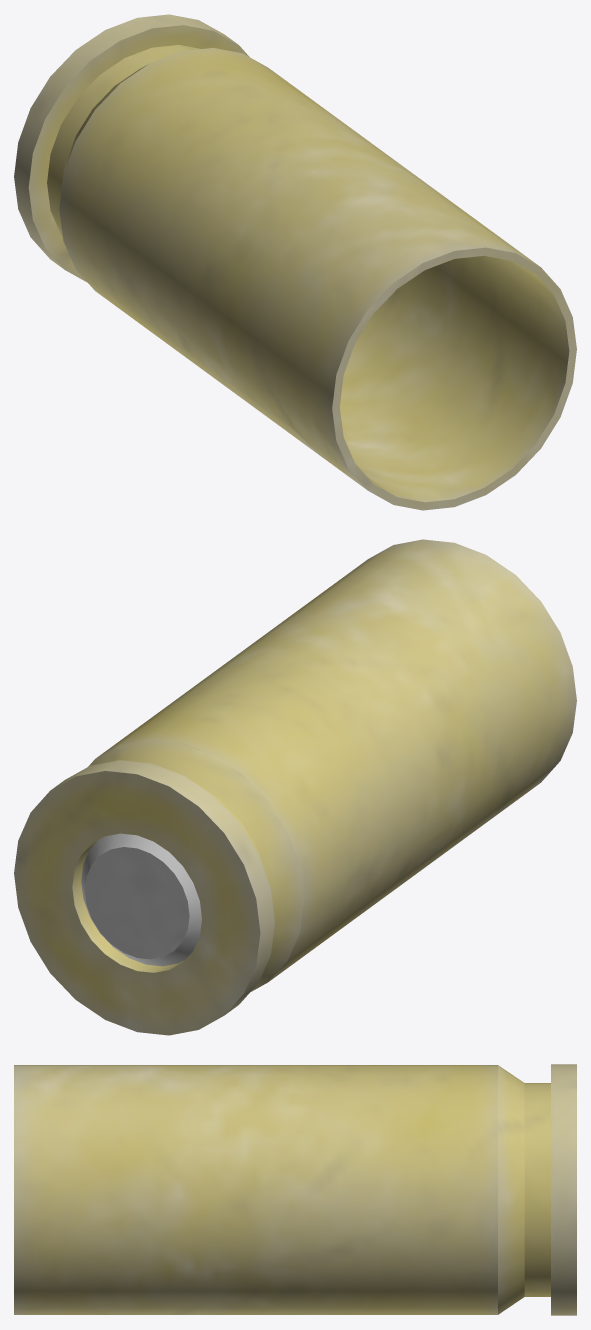
The model's file is bullet_case.glb.
The picture shows the model from 3 angles, top to bottom: view 1: azimuth 30°, elevation 25°; view 2: azimuth 150°, elevation 25°; view 3: azimuth 270°, elevation 25°; orthographic projection. The views are drawn at different scales.
Visible parts, largest first — view 1: Bullet Casing_Material.001_0; view 2: Bullet Casing_Material.001_0; view 3: Bullet Casing_Material.001_0.
Boxes of the visible parts, left/top/right/bottom form: Bullet Casing_Material.001_0: left=14, top=14, right=576, bottom=510; Bullet Casing_Material.001_0: left=14, top=539, right=576, bottom=1035; Bullet Casing_Material.001_0: left=14, top=1064, right=576, bottom=1315.
Bounding box in the file's own units: 0.1575 × 0.1575 × 0.3514.
Materials: 1 (1 with a texture image).
